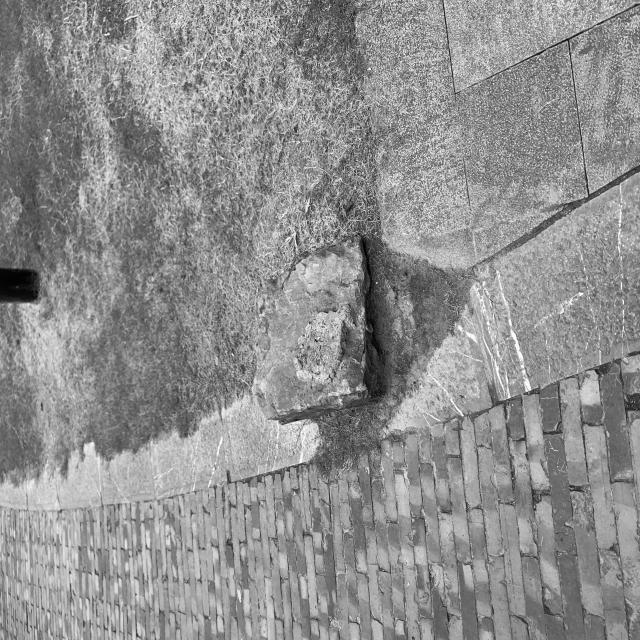Stone: (252, 241, 368, 421)
